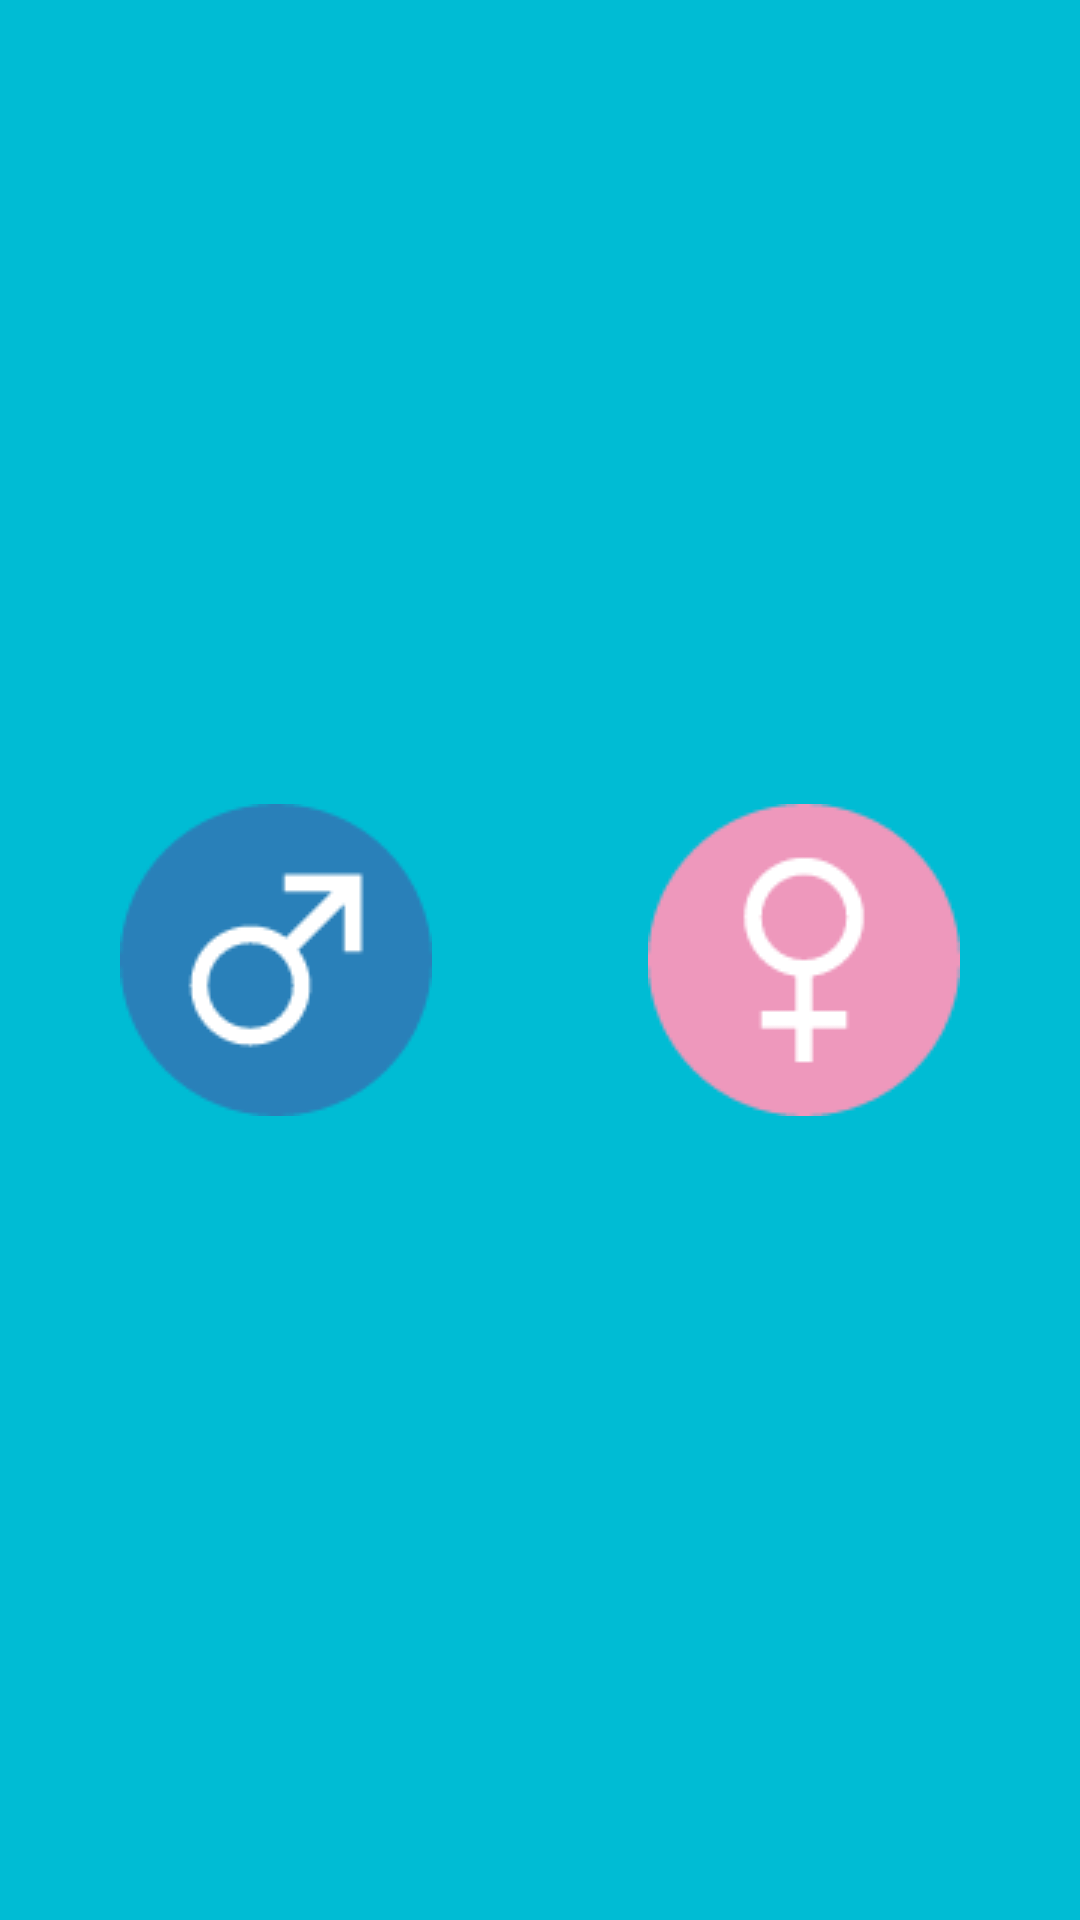

Where icons sit on this 1080x1920 app screen, as BBox(x1, y1, x2, y2):
female: BBox(648, 804, 960, 1116)
male: BBox(120, 804, 432, 1116)
